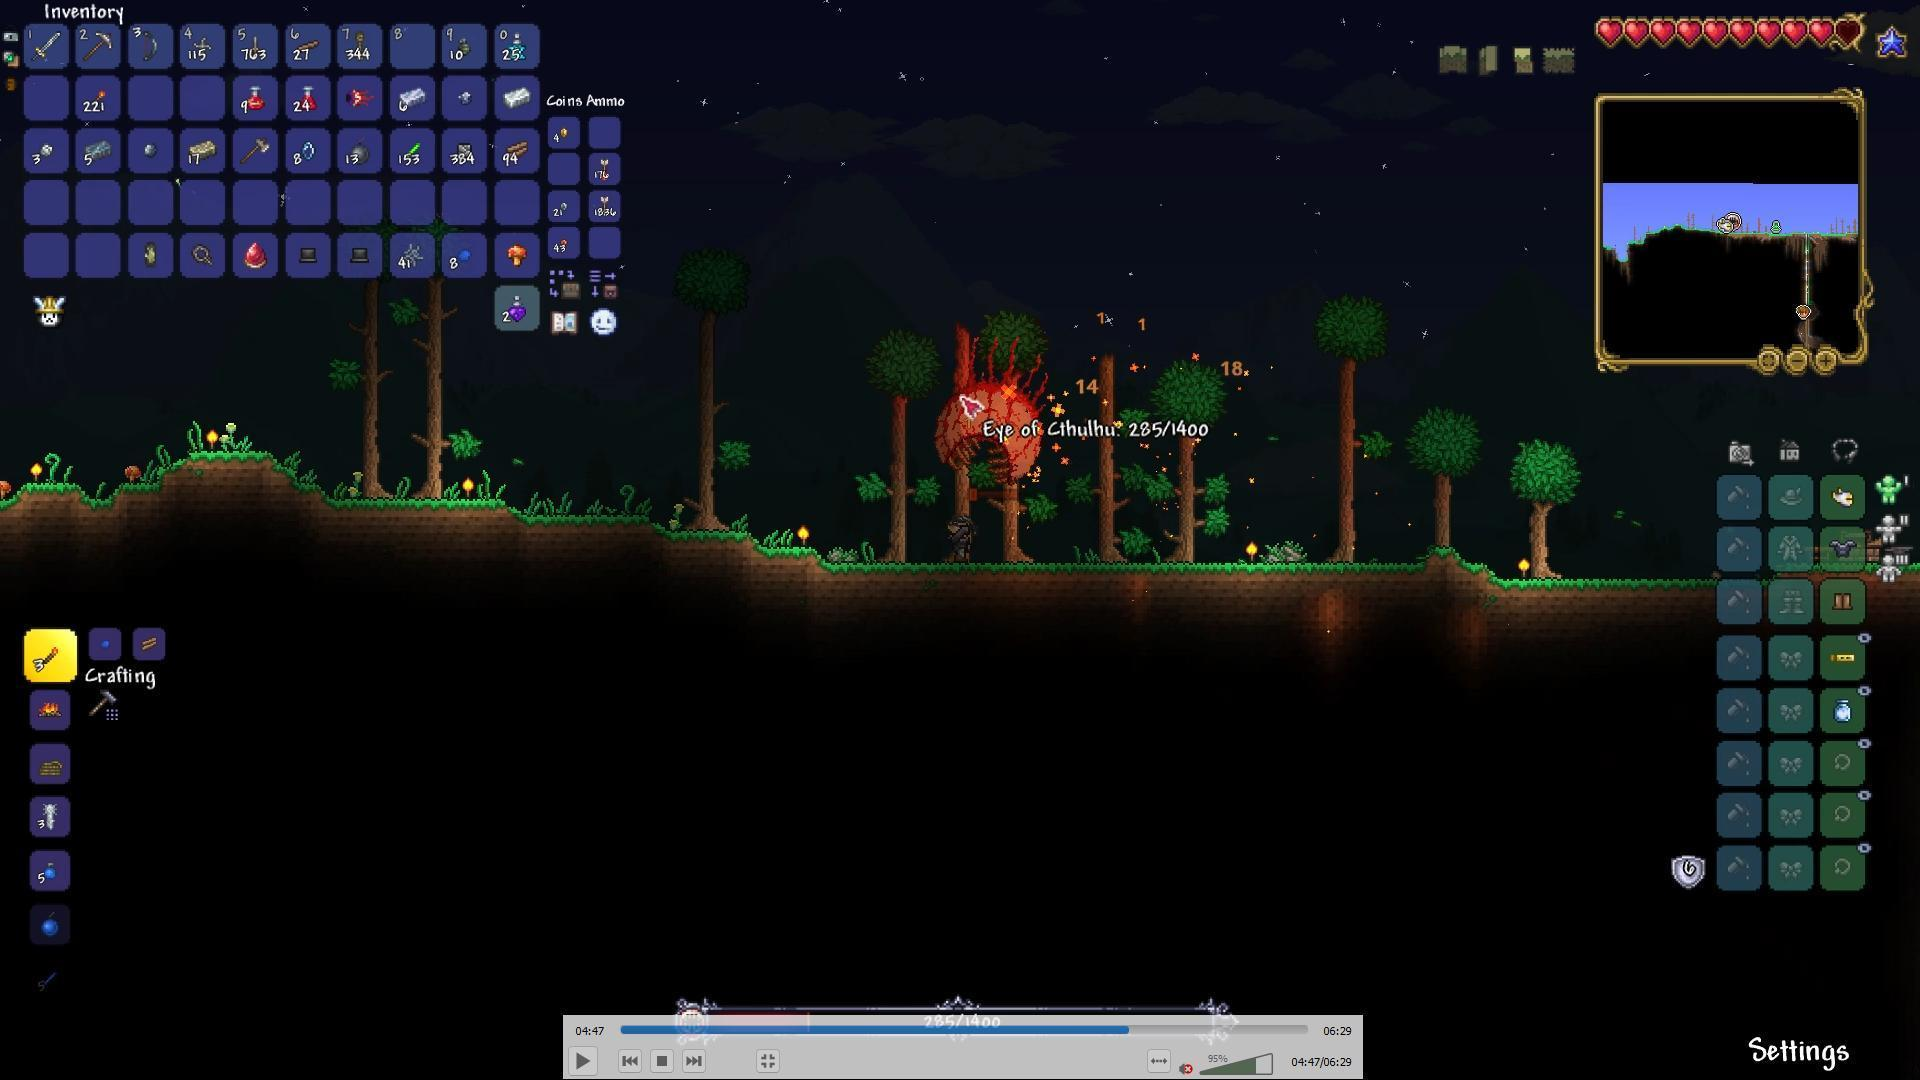eyeC: (932, 330, 1062, 491)
